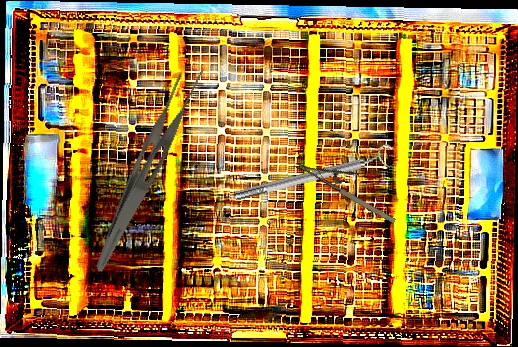Dressing Forceps: (92, 55, 209, 283)
Fixation Ring: (230, 142, 399, 208)
Needle Holder: (293, 142, 407, 227)
